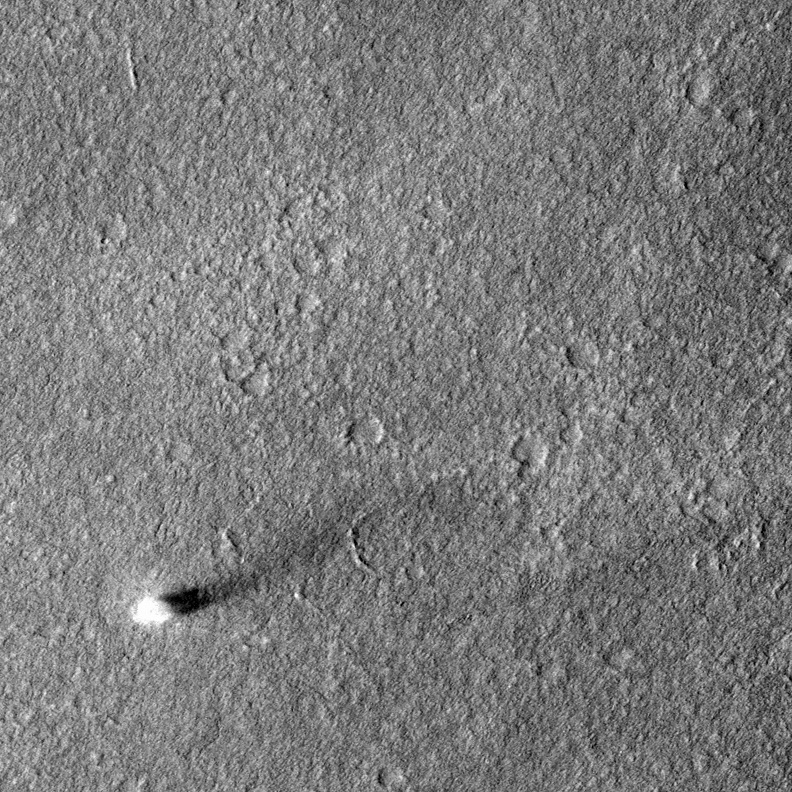dust_devil: (129, 514, 363, 631)
